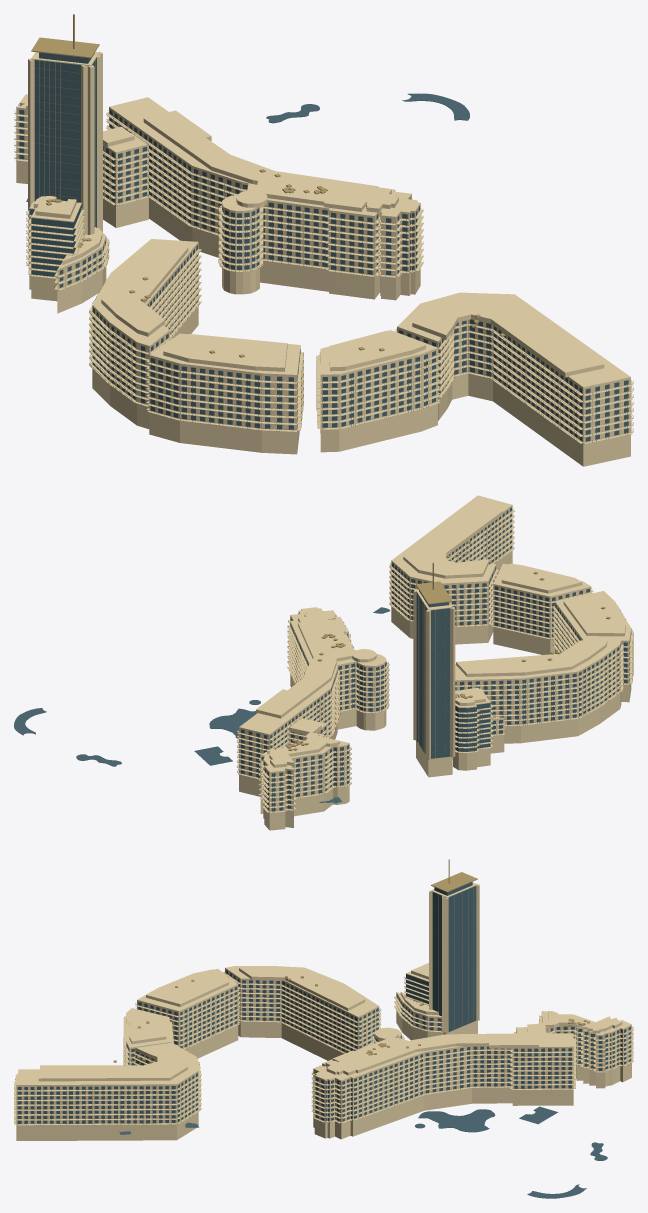
Rendered from portomaso-hilton.glb.
The picture shows the model from 3 angles, top to bottom: view 1: azimuth 30°, elevation 25°; view 2: azimuth 150°, elevation 25°; view 3: azimuth 270°, elevation 25°; orthographic projection. The views are drawn at different scales.
Visible parts, largest first — view 1: Portomaso tower and Hilton Malta; view 2: Portomaso tower and Hilton Malta; view 3: Portomaso tower and Hilton Malta.
Part boxes in pixels (<box>): Portomaso tower and Hilton Malta: <box>14,14,633,466</box>; Portomaso tower and Hilton Malta: <box>14,495,633,830</box>; Portomaso tower and Hilton Malta: <box>14,859,633,1198</box>.
Bounding box in the file's own units: 295 × 142 × 406.
